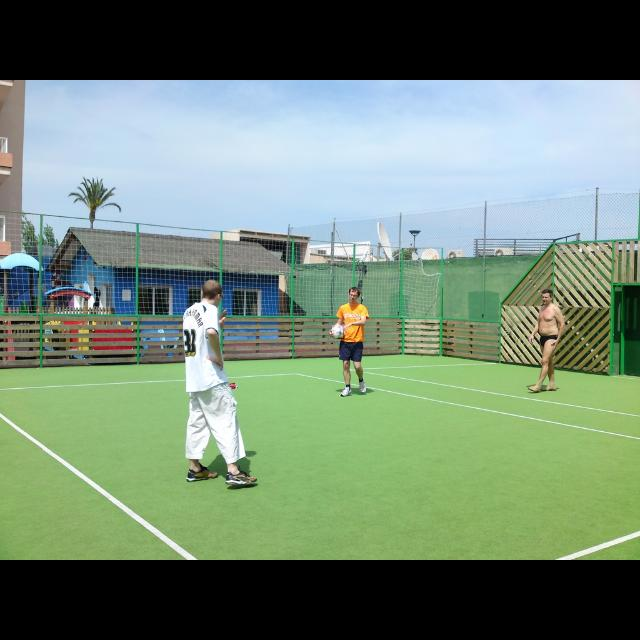Football: (332, 325, 344, 339)
